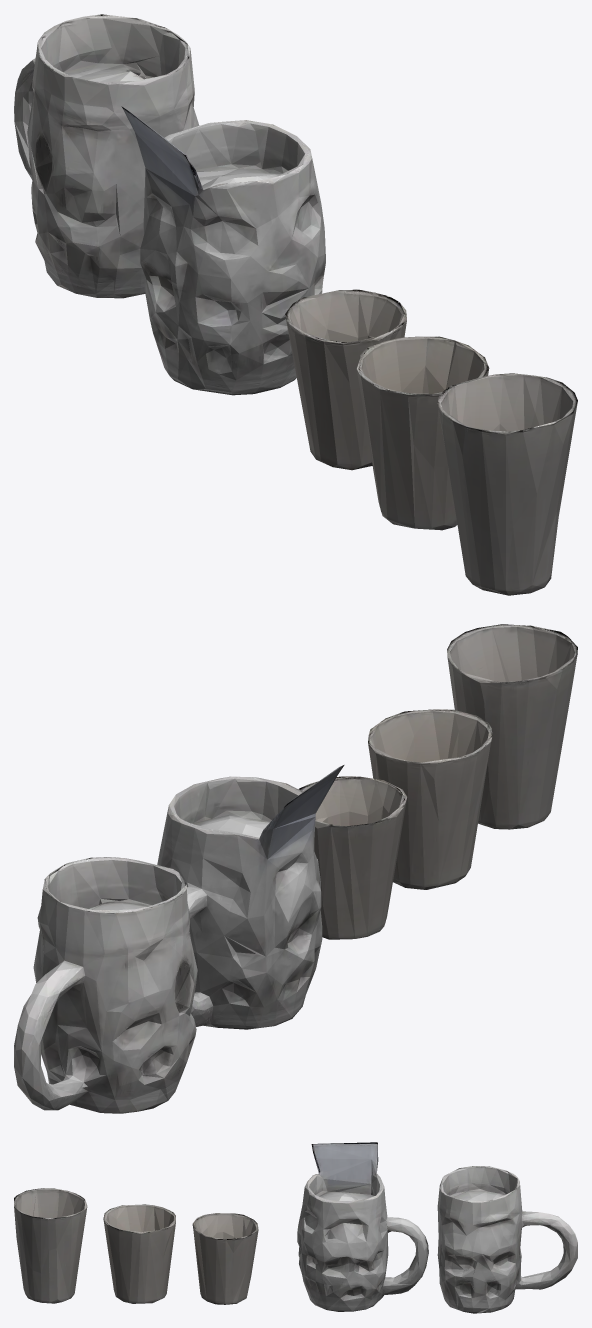
File: mugs_row_grey.glb
3 renders of one model, top to bottom at view 1: azimuth 30°, elevation 25°; view 2: azimuth 150°, elevation 25°; view 3: azimuth 270°, elevation 25°, orthographic. The views are drawn at different scales.
Visible parts, largest first — view 1: geometry_0; view 2: geometry_0; view 3: geometry_0.
Boxes of the visible parts, left/top/right/bottom form: geometry_0: left=14, top=14, right=577, bottom=595; geometry_0: left=14, top=624, right=577, bottom=1113; geometry_0: left=14, top=1142, right=577, bottom=1313.
Size of the model in its own units: 0.1752 by 0.2639 by 0.9993.
1 material, 1 textured.
